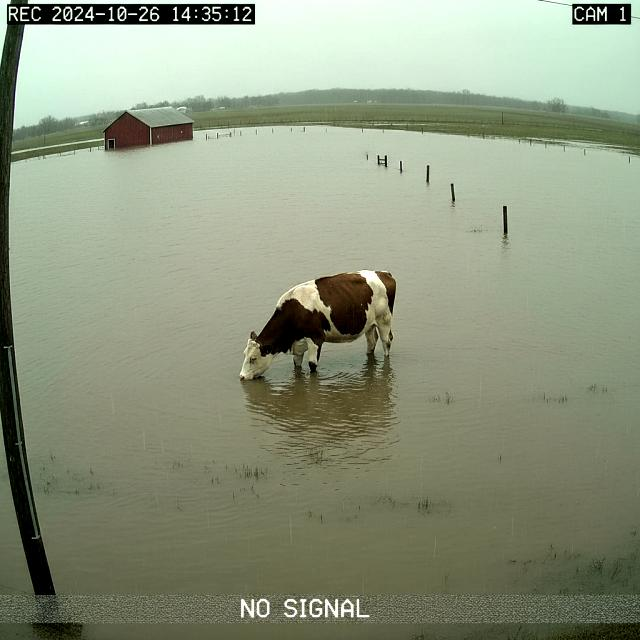cow: (211, 258, 423, 404)
